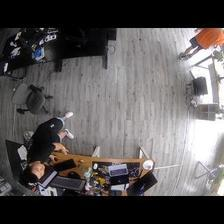normal: (22, 109, 75, 183), (176, 27, 224, 62)
